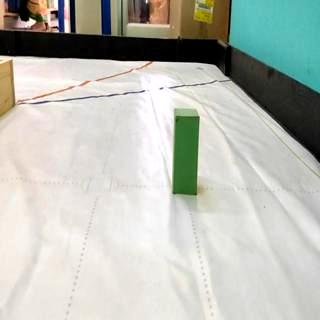greenbox: (172, 108, 200, 196)
